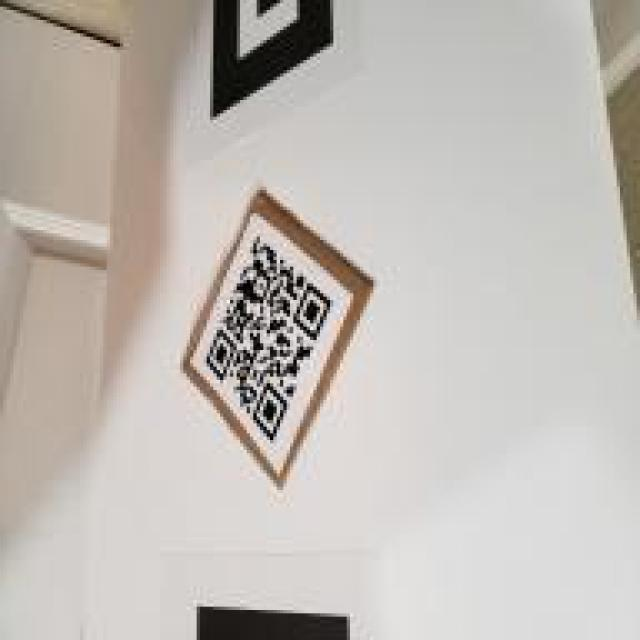qr_code: (205, 234, 332, 443)
